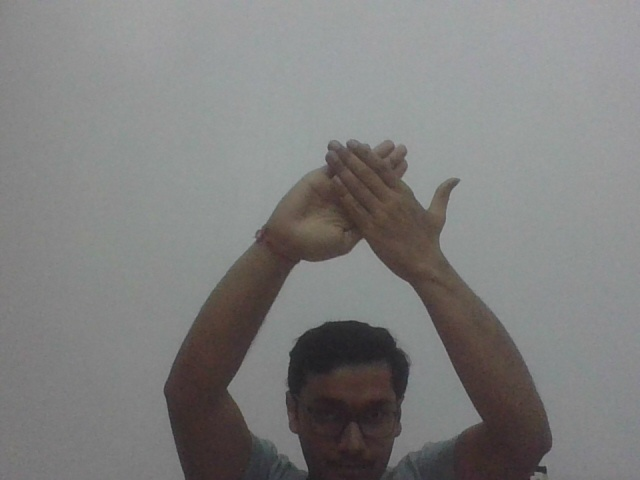H: (269, 138, 462, 266)
